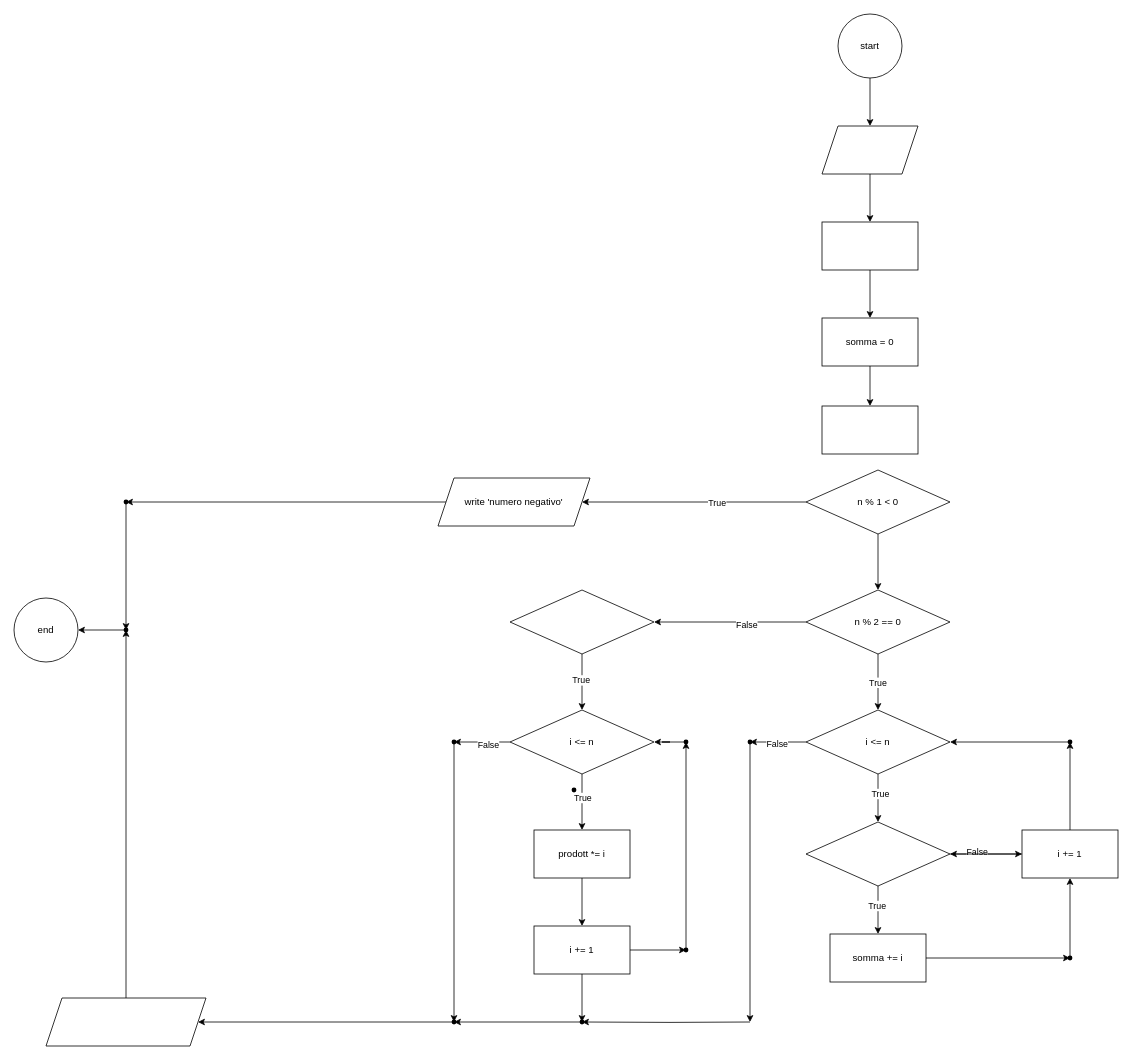
Some shapes in this 1132 by 1060 pixel diagram are drawn without their labels. Here are the shapes that lost their labels. From the top down, the centre of each, then its label:
At point (869, 149): "read n".
At point (869, 245): "i = 1".
At point (869, 429): "prodotto = 1".
At point (581, 621): "n % 2 == 1".
At point (877, 853): "n % 4 == 0".
At point (125, 1021): "write somma, prodotto".
